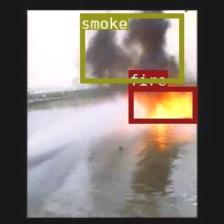fire: (128, 86, 196, 123)
smoke: (79, 12, 183, 82)
